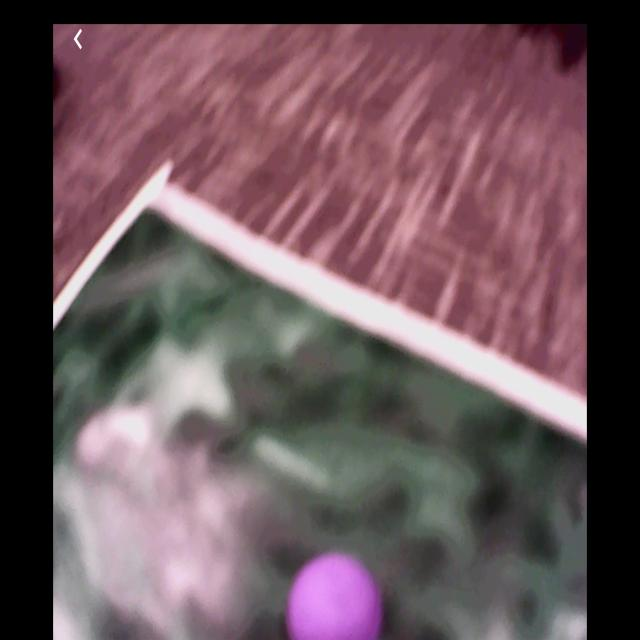ball: (285, 551, 384, 639)
